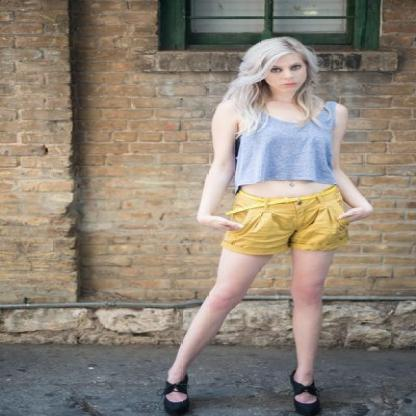shirt: (237, 101, 346, 184)
shoe: (164, 374, 320, 416)
shorts: (220, 185, 352, 255)
